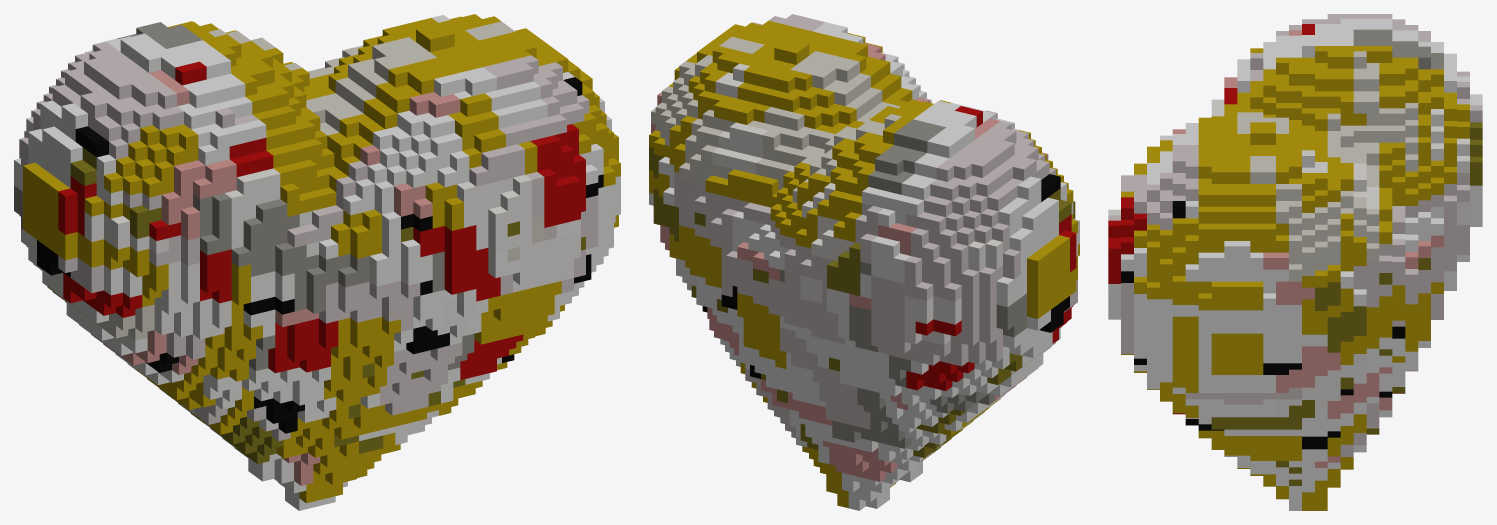
Rendered from heart5.glb.
3 renders of one model, left to right at view 1: azimuth 30°, elevation 25°; view 2: azimuth 150°, elevation 25°; view 3: azimuth 270°, elevation 25°, orthographic. The views are drawn at different scales.
Parts seen in each view (by area): view 1: VoxTransform; view 2: VoxTransform; view 3: VoxTransform.
Boxes of the visible parts, x1=… form: VoxTransform: x1=14, y1=14, x2=620, y2=510; VoxTransform: x1=649, y1=14, x2=1079, y2=510; VoxTransform: x1=1108, y1=14, x2=1482, y2=510.
Size of the model in its own units: 40 by 36 by 29.
